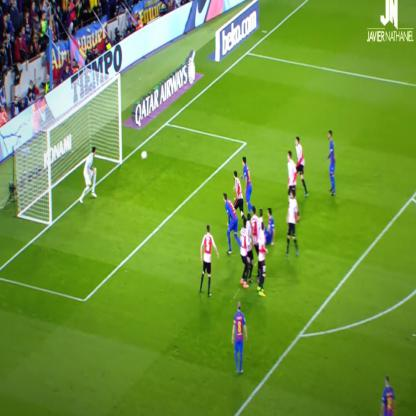goal: (6, 12, 400, 414)
